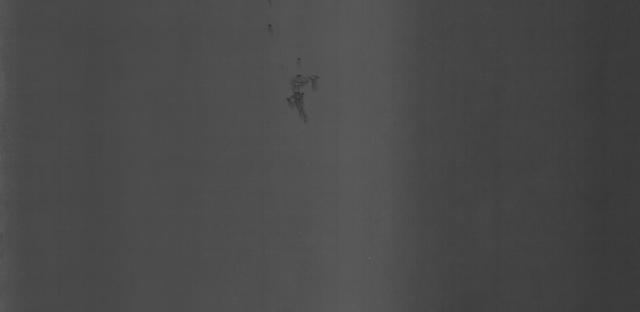water_spot: (276, 58, 342, 132)
